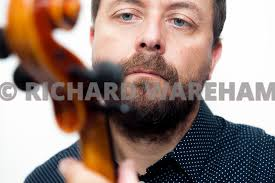white_male: (95, 1, 217, 124)
